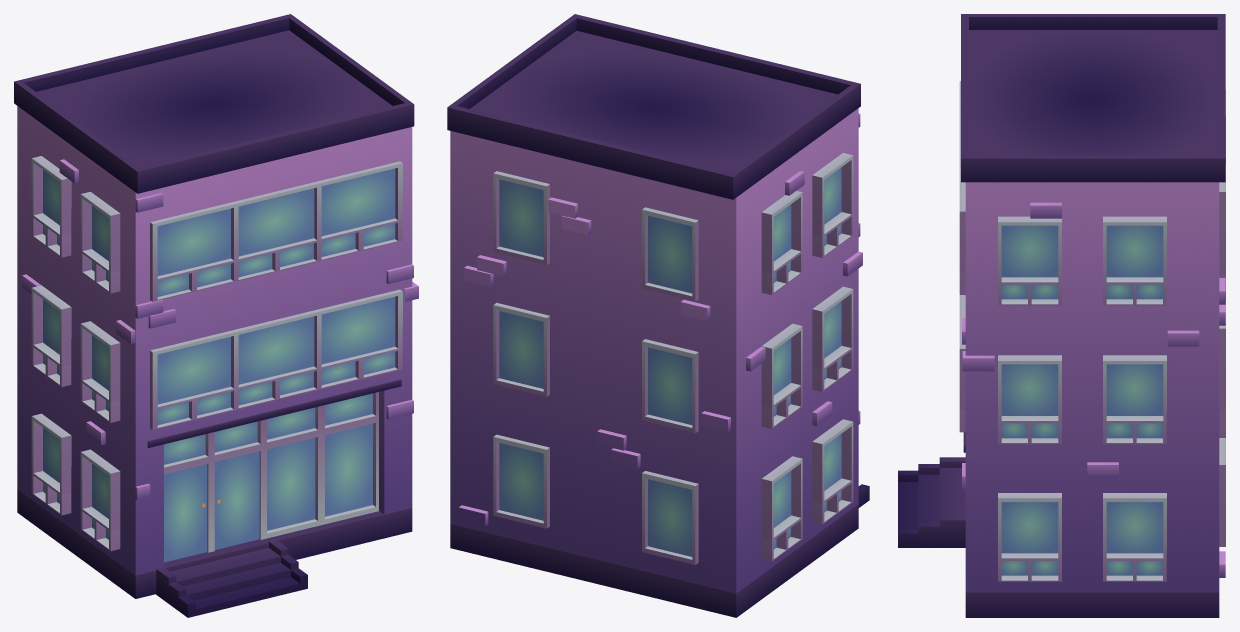
File: SM_3F_L_Half_01.fbx
3 views of the same model, side by side, from view 1: azimuth 30°, elevation 25°; view 2: azimuth 150°, elevation 25°; view 3: azimuth 270°, elevation 25° (orthographic). The views are drawn at different scales.
Parts seen in each view (by area): view 1: SM_3F_L_Half_01; view 2: SM_3F_L_Half_01; view 3: SM_3F_L_Half_01.
Boxes of the visible parts, left/top/right/bottom form: SM_3F_L_Half_01: left=14, top=14, right=418, bottom=617; SM_3F_L_Half_01: left=447, top=14, right=869, bottom=617; SM_3F_L_Half_01: left=898, top=14, right=1225, bottom=617.
Size of the model in its own units: 7.82 by 6.97 by 10.8.
